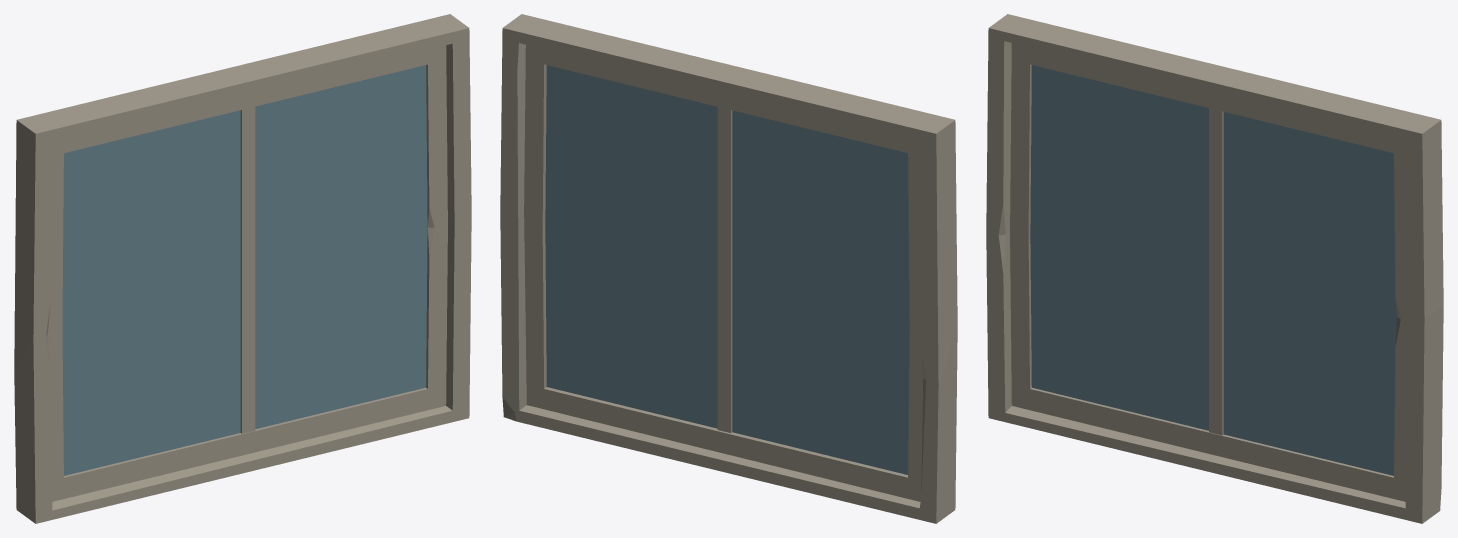
File: Window.fbx
3 views of the same model, side by side, from view 1: azimuth 30°, elevation 25°; view 2: azimuth 150°, elevation 25°; view 3: azimuth 330°, elevation 25° (orthographic).
Visible parts, largest first — view 1: Glass, Window; view 2: Glass, Window; view 3: Glass, Window.
Boxes of the visible parts, box(x1,y1,x2,y2) form: Glass: box(62, 65, 427, 475); Window: box(14, 14, 471, 523); Glass: box(545, 65, 909, 474); Window: box(500, 14, 957, 523); Glass: box(1030, 65, 1396, 475); Window: box(986, 14, 1443, 523).
Bounding box in the file's own units: 260 × 221 × 19.69.
Materials: 1 (1 with a texture image).
